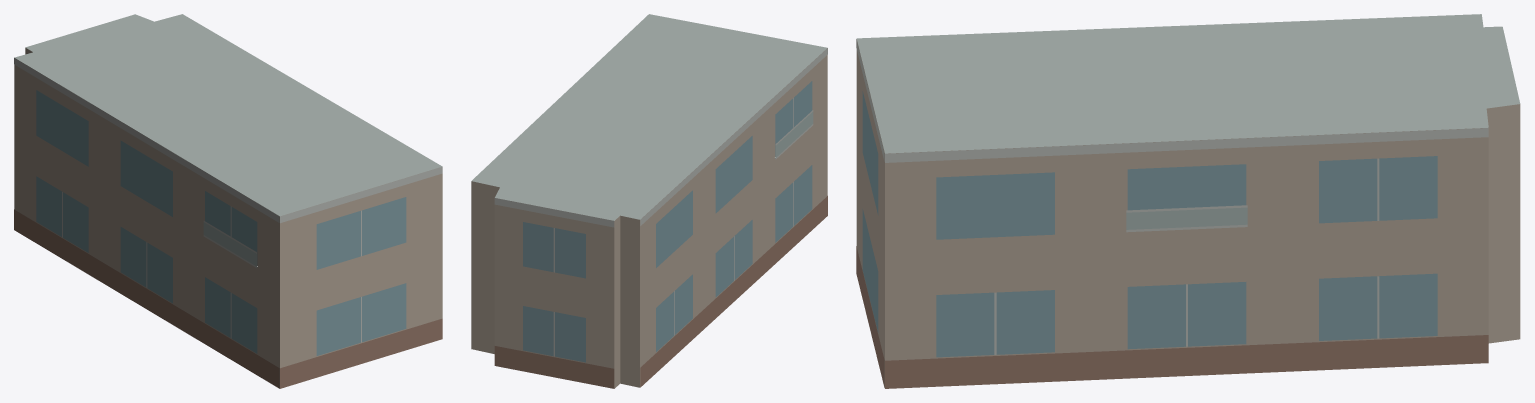
Rendered from survey-upis-32770452.glb.
3 renders of one model, left to right at view 1: azimuth 30°, elevation 25°; view 2: azimuth 150°, elevation 25°; view 3: azimuth 270°, elevation 25°, orthographic. The views are drawn at different scales.
Visible parts, largest first — view 1: survey-upis-32770452.tmp; view 2: survey-upis-32770452.tmp; view 3: survey-upis-32770452.tmp.
Boxes of the visible parts, x1,y1,x2,y2 form: survey-upis-32770452.tmp: [14, 14, 442, 388]; survey-upis-32770452.tmp: [471, 14, 827, 388]; survey-upis-32770452.tmp: [856, 14, 1520, 388].
Bounding box in the file's own units: 7.77 × 6.1 × 15.61.
